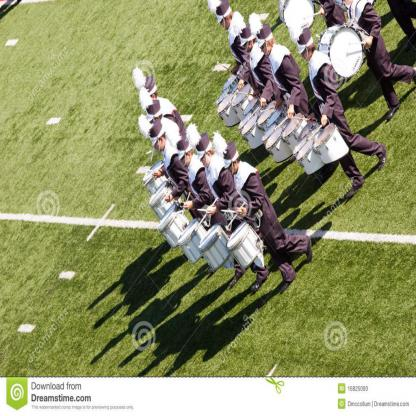face: (154, 137, 164, 153), (301, 46, 311, 62), (201, 152, 210, 168), (261, 42, 271, 56), (228, 160, 237, 174), (182, 153, 190, 167), (220, 17, 228, 30), (245, 42, 252, 53), (345, 1, 353, 7)
